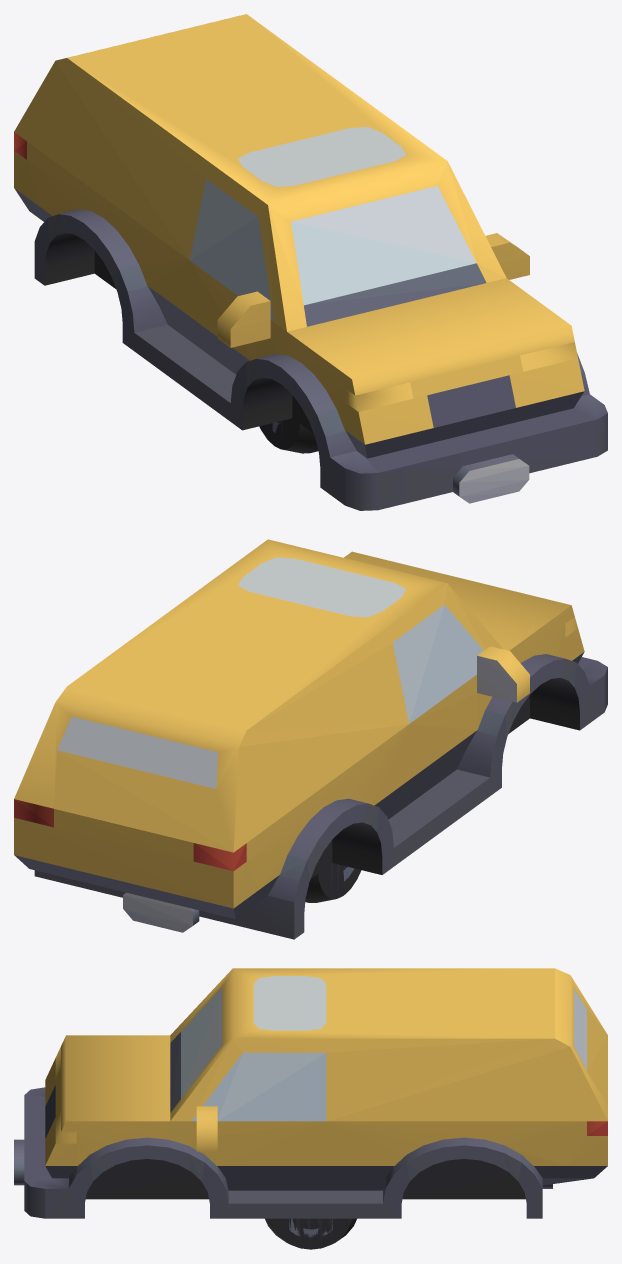
Rendered from suv-luxury.glb.
3 views of the same model, one above another, from view 1: azimuth 30°, elevation 25°; view 2: azimuth 150°, elevation 25°; view 3: azimuth 270°, elevation 25° (orthographic). The views are drawn at different scales.
Parts seen in each view (by area): view 1: body_paint, trim, wheel_right; view 2: body_paint, trim, wheel_right, wheel_left; view 3: body_paint, trim, wheel_left, wheel_right.
Part boxes in pixels (box(x1,y1,x2,y2)): body_paint: box(14, 14, 584, 444); trim: box(14, 127, 607, 510); wheel_right: box(260, 418, 316, 453); body_paint: box(14, 539, 584, 908); trim: box(14, 557, 607, 939); wheel_right: box(305, 863, 357, 902); wheel_left: box(305, 867, 361, 902); body_paint: box(45, 968, 607, 1165); trim: box(14, 976, 607, 1218); wheel_left: box(265, 1218, 356, 1249); wheel_right: box(270, 1218, 355, 1249).
Bounding box in the file's own units: 2.1 × 2 × 4.5.
